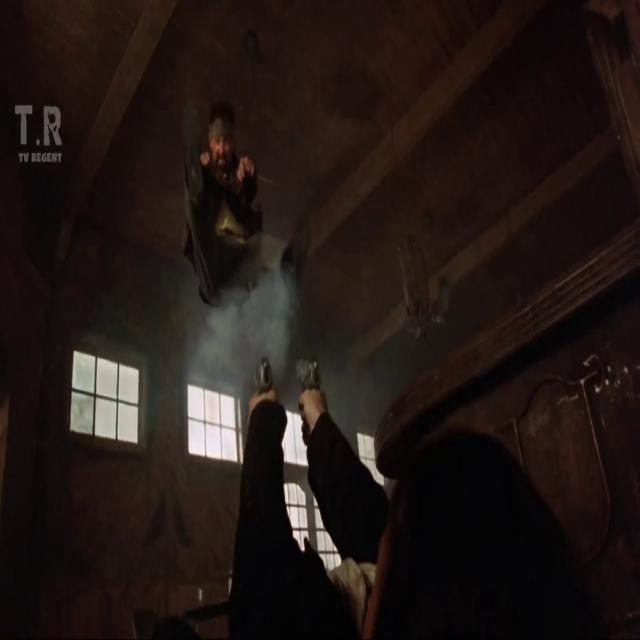handgun: (238, 336, 284, 426), (290, 343, 330, 415)
